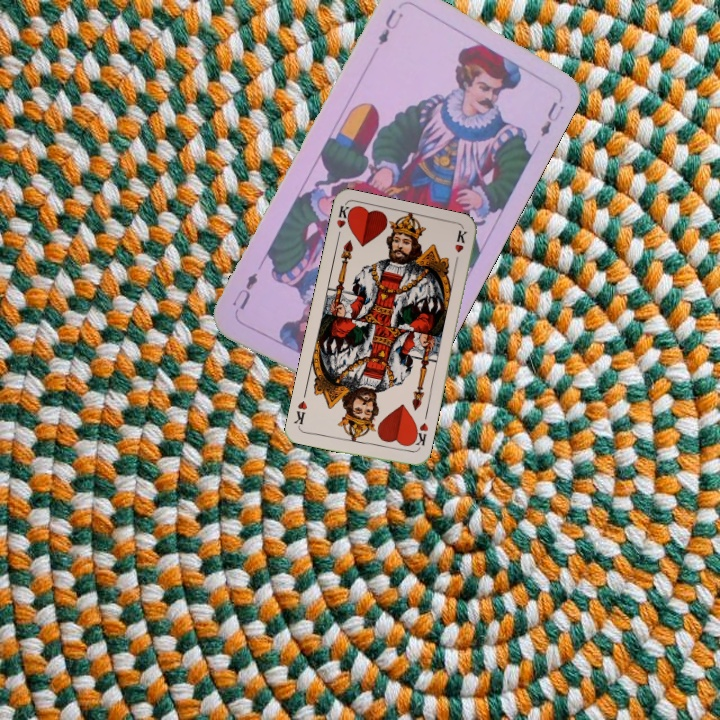EU: (374, 5, 407, 48)
HK: (332, 202, 354, 243), (408, 419, 431, 453)
